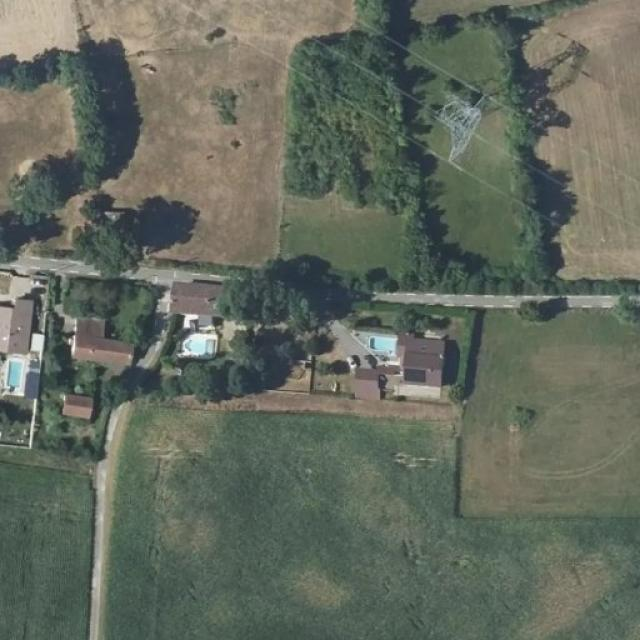maison: (399, 332, 451, 396), (69, 318, 137, 364), (0, 286, 40, 357), (168, 278, 225, 312), (349, 360, 388, 400), (60, 394, 94, 420)
piscine: (172, 330, 224, 364), (0, 356, 30, 397), (360, 330, 403, 358)
